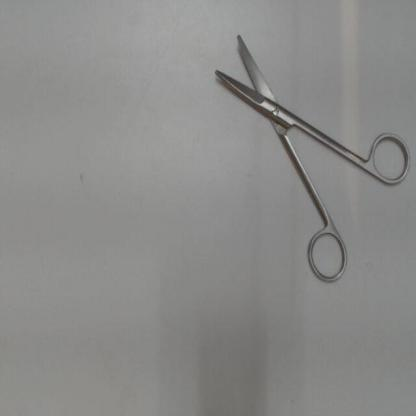Curved Mayo Scissors: (207, 21, 414, 288)
